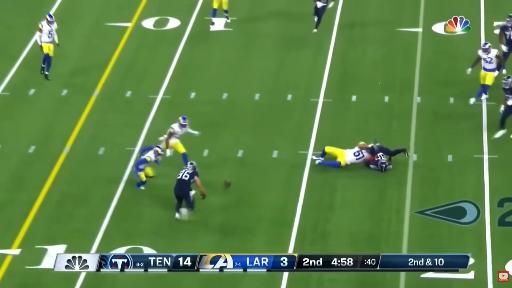Helmet: (379, 159, 389, 172), (483, 41, 493, 54), (503, 75, 512, 88), (46, 14, 54, 27), (504, 12, 511, 26), (155, 144, 162, 157), (180, 117, 188, 127), (188, 163, 196, 170)
Jersey: (175, 169, 198, 191), (478, 49, 498, 72), (367, 153, 392, 171), (345, 148, 370, 164), (39, 22, 57, 43), (168, 123, 188, 140), (500, 25, 511, 49), (142, 150, 158, 162), (503, 88, 511, 106), (316, 0, 328, 7)
Player: (467, 42, 506, 104), (160, 116, 199, 165), (174, 162, 206, 219), (36, 14, 59, 79), (313, 143, 370, 167), (135, 146, 163, 189), (494, 76, 511, 138), (314, 0, 333, 33), (499, 14, 511, 62), (367, 144, 409, 157), (210, 0, 230, 27), (366, 153, 392, 171)
